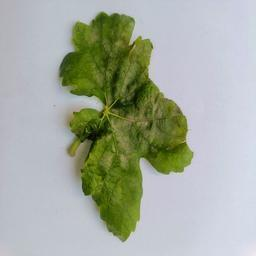Powdery-Mildew: (113, 114, 151, 171), (145, 125, 186, 164), (118, 40, 152, 87), (108, 182, 139, 232), (82, 144, 110, 192), (146, 85, 180, 120), (85, 62, 114, 88), (75, 25, 100, 51), (73, 109, 100, 133)
